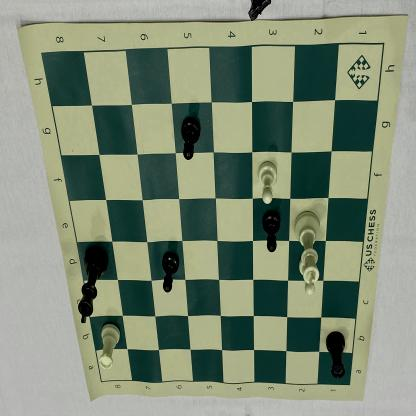black-king: (76, 242, 110, 326)
black-pawn: (178, 112, 204, 170), (158, 247, 182, 299), (259, 209, 283, 257)
black-rook: (323, 329, 352, 385)
white-king: (290, 207, 330, 292)
white-pawn: (255, 158, 283, 208), (297, 252, 322, 299)
white-rook: (95, 316, 124, 373)
